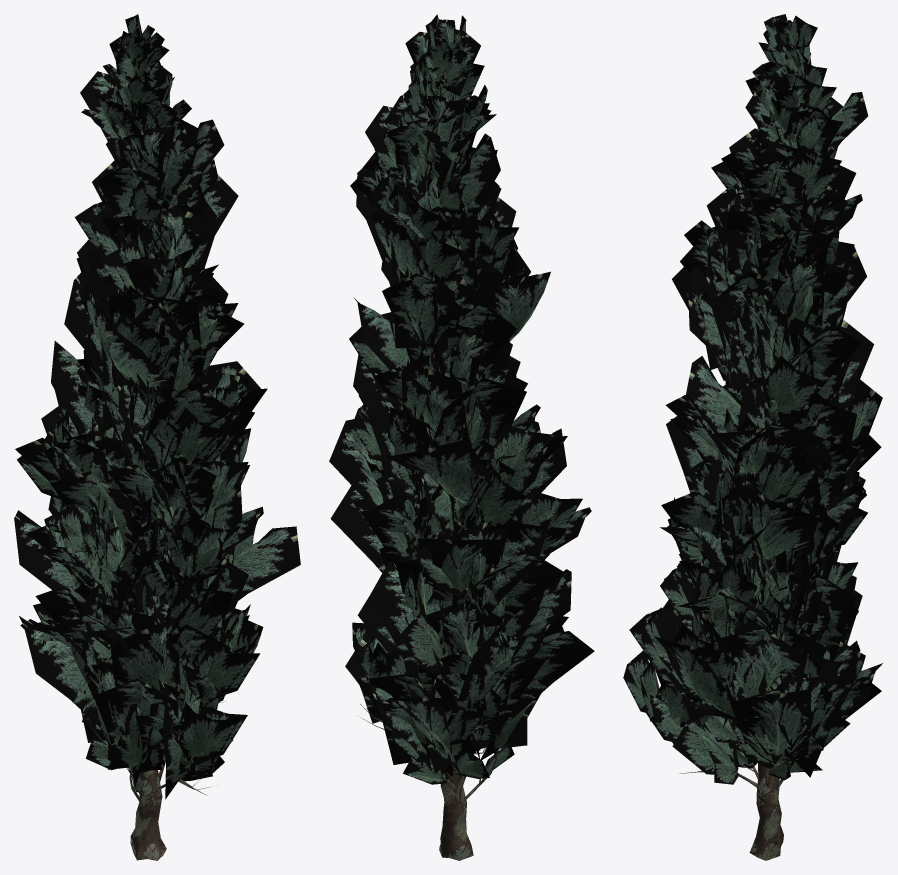
The model's file is p_cypress.glb.
3 views of the same model, side by side, from view 1: azimuth 30°, elevation 25°; view 2: azimuth 150°, elevation 25°; view 3: azimuth 270°, elevation 25° (orthographic). The views are drawn at different scales.
Visible parts, largest first — view 1: Cypress_V2_test; view 2: Cypress_V2_test; view 3: Cypress_V2_test.
Part boxes in pixels (bbox=[...]): Cypress_V2_test: bbox=[14, 14, 300, 860]; Cypress_V2_test: bbox=[329, 14, 594, 860]; Cypress_V2_test: bbox=[623, 14, 882, 860].
Bounding box in the file's own units: 1.66 × 5.31 × 1.49.
3 materials, 2 textured.
